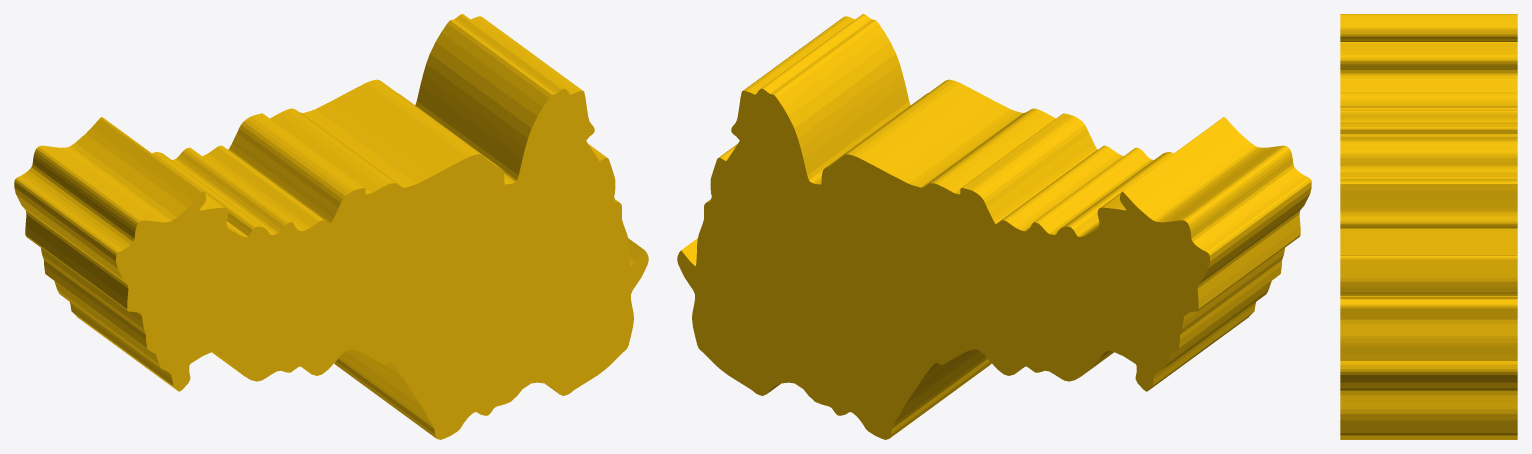
Rendered from mara.glb.
The picture shows the model from 3 angles, left to right: view 1: azimuth 30°, elevation 25°; view 2: azimuth 150°, elevation 25°; view 3: azimuth 270°, elevation 25°; orthographic projection. The views are drawn at different scales.
Visible parts, largest first — view 1: marañon; view 2: marañon; view 3: marañon.
Part boxes in pixels (box(x1,y1,x2,y2)): marañon: box(14, 14, 648, 439); marañon: box(677, 14, 1311, 439); marañon: box(1340, 14, 1517, 439).
Size of the model in its own units: 4.02 by 2.32 by 1.33.
